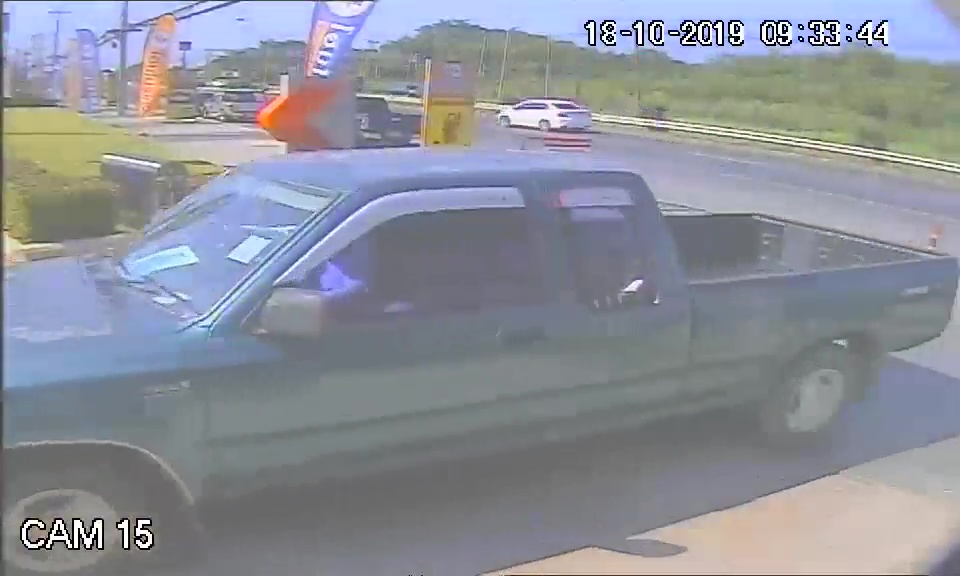pickup: (2, 147, 958, 482)
